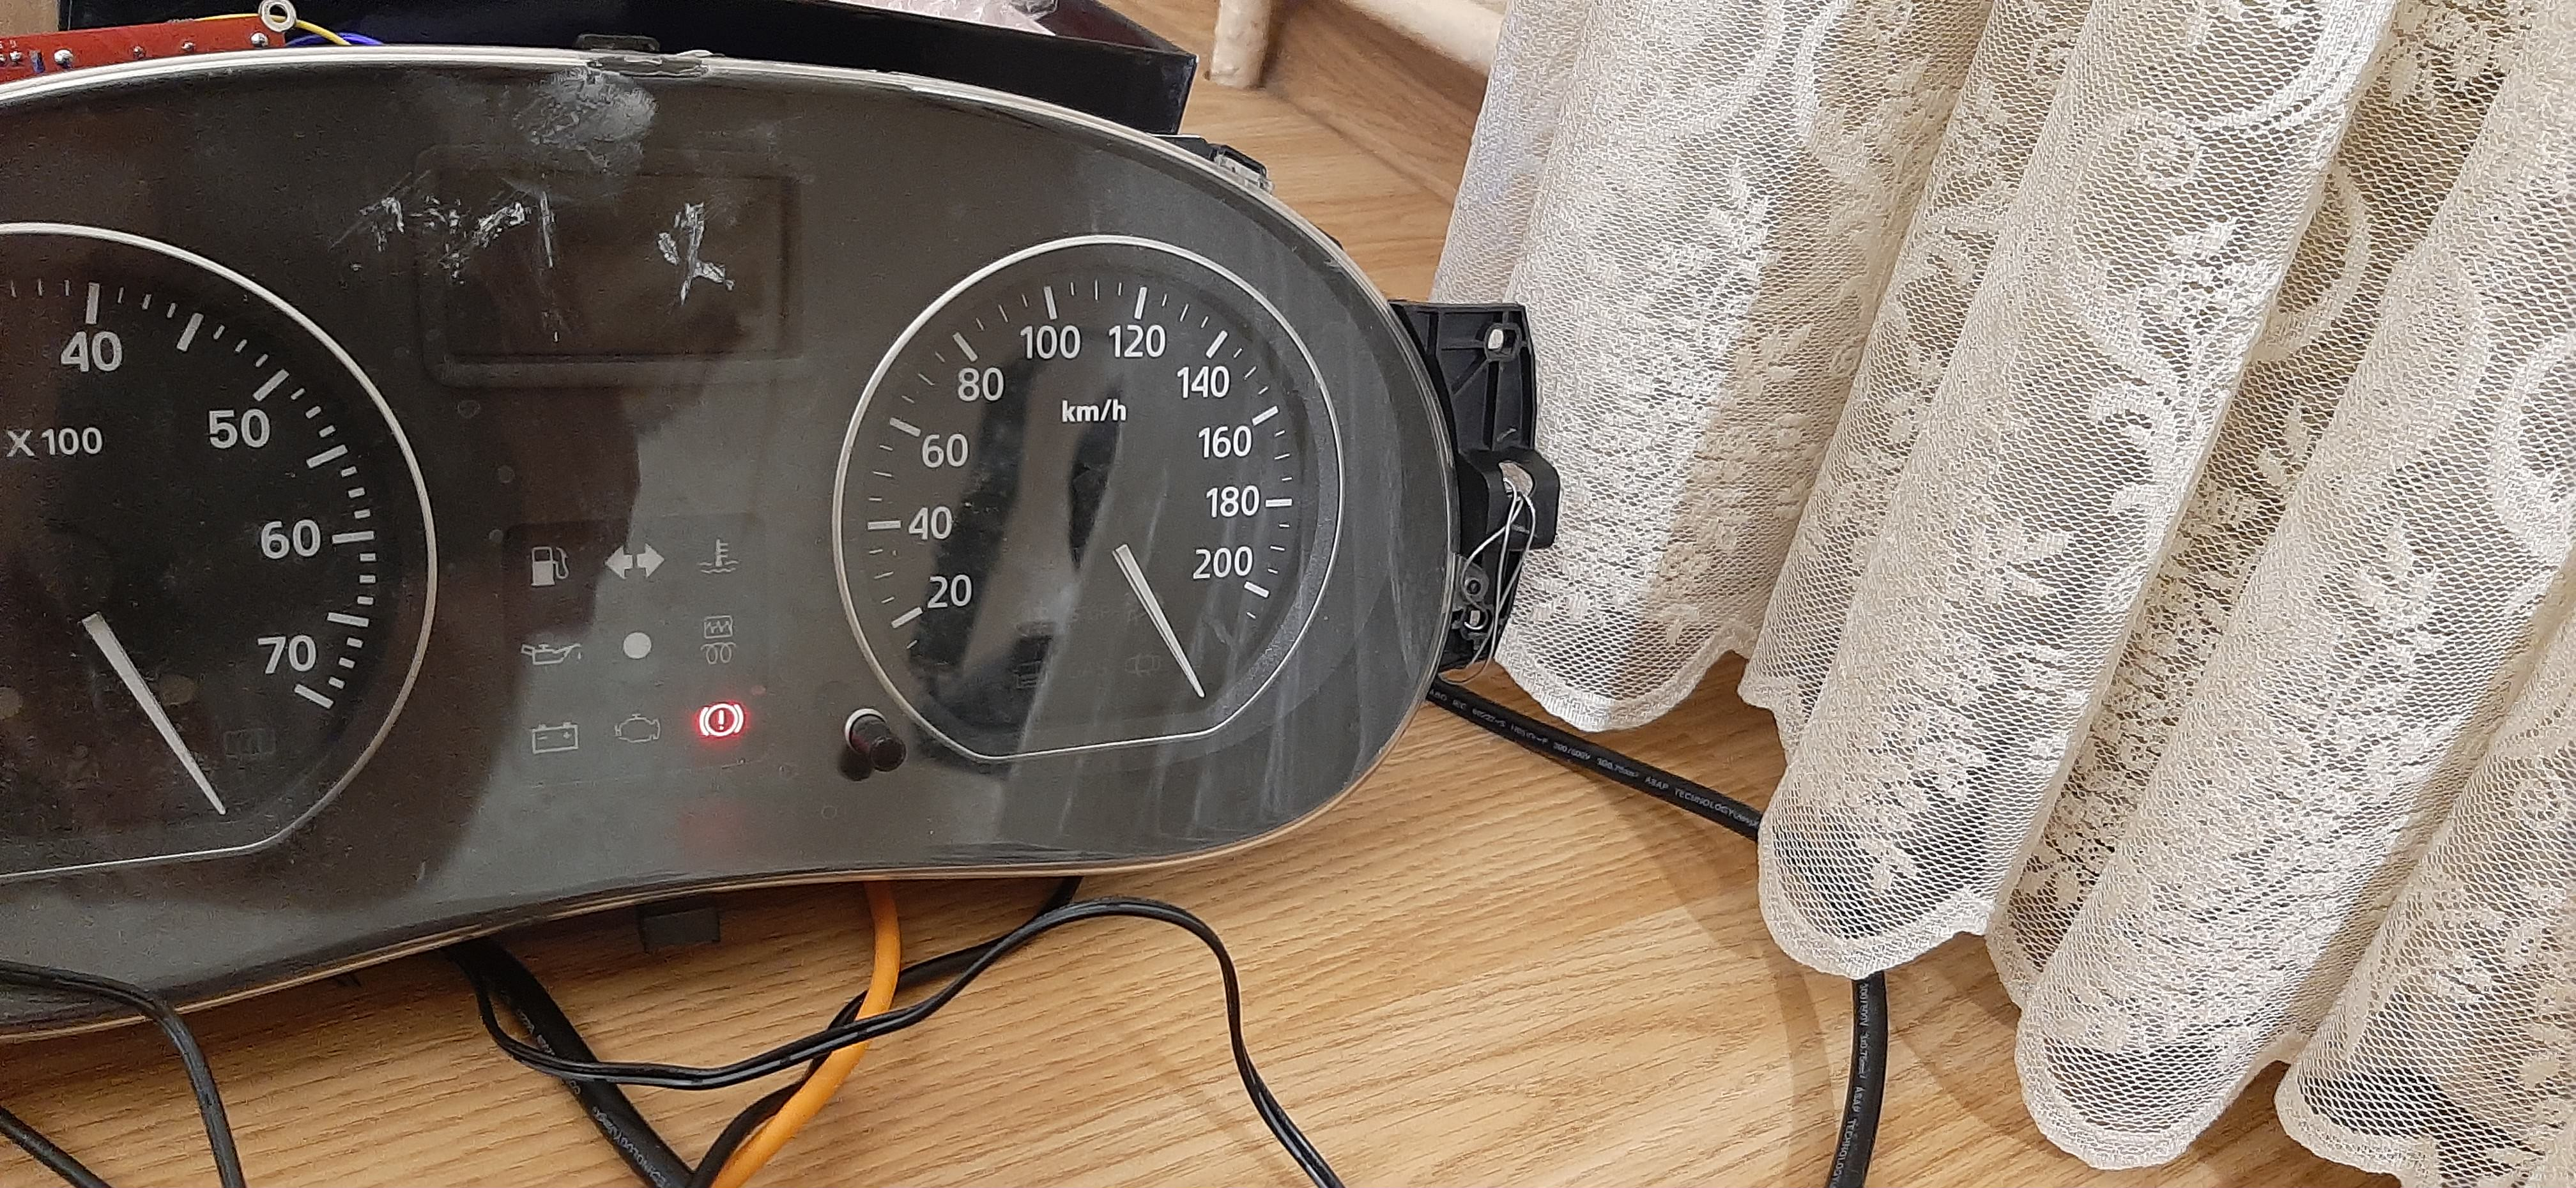brake19: (697, 702, 746, 738)
